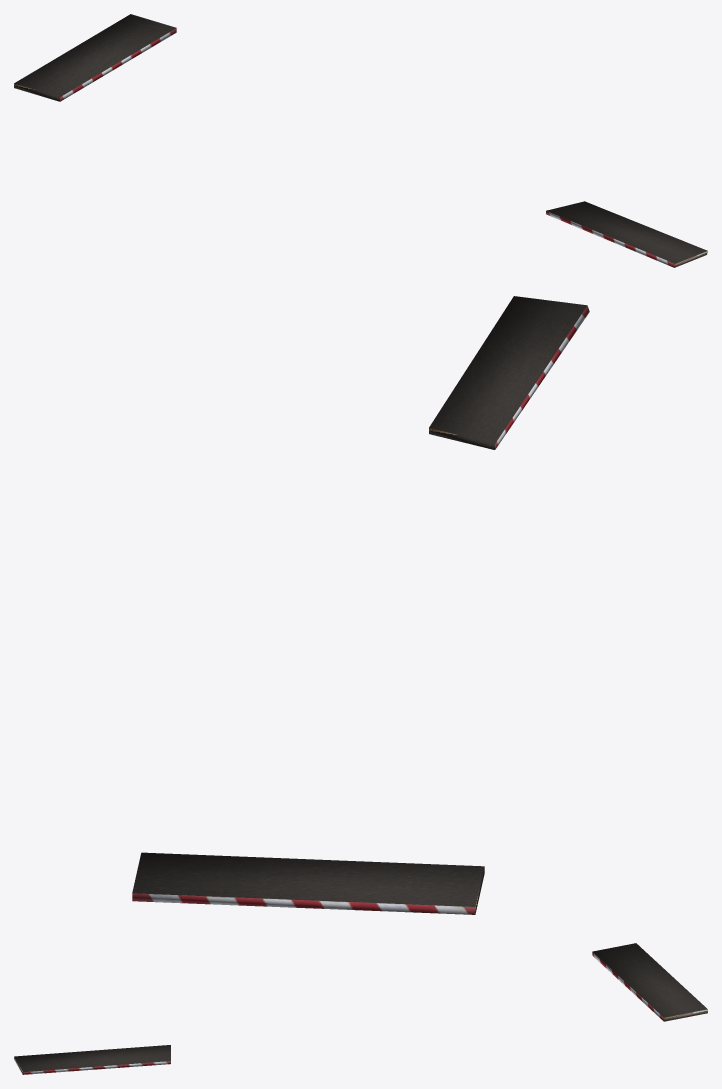
Rendered from Level2navmeshes.glb.
The picture shows the model from 3 angles, top to bottom: view 1: azimuth 30°, elevation 25°; view 2: azimuth 150°, elevation 25°; view 3: azimuth 270°, elevation 25°; orthographic projection. The views are drawn at different scales.
Parts seen in each view (by area): view 1: road.002, road.001; view 2: road.002, road.001; view 3: road.002, road.001.
Boxes of the visible parts, x1,y1,x2,y2 form: road.002: [14, 14, 176, 101]; road.001: [546, 201, 707, 267]; road.002: [132, 852, 484, 914]; road.001: [429, 296, 589, 449]; road.002: [592, 943, 707, 1021]; road.001: [14, 1045, 170, 1074].
Size of the model in its own units: 370 by 18.44 by 774.
Materials: 1 (1 with a texture image).
